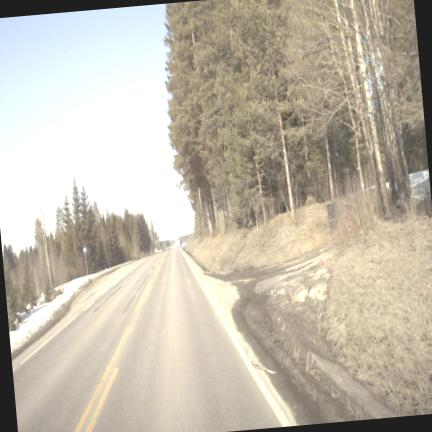Road: (12, 248, 287, 431)
